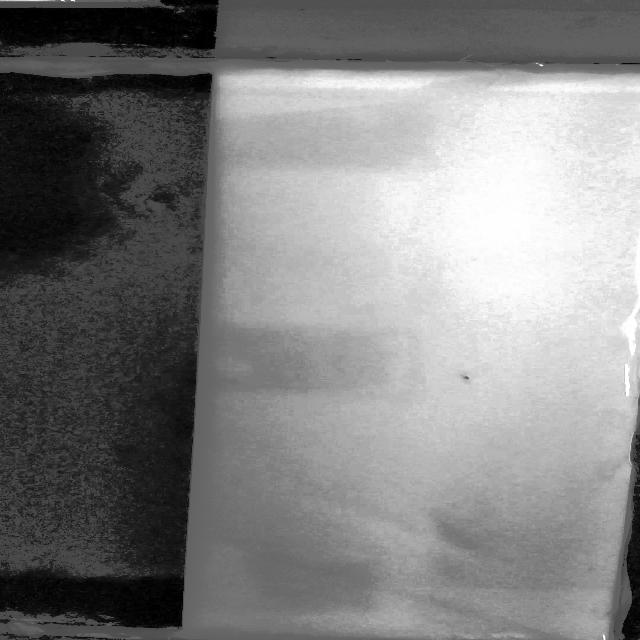shrimp: (452, 368, 490, 390)
